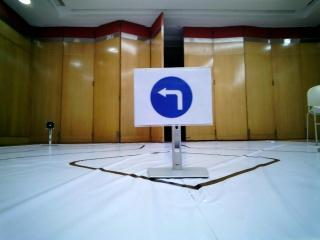left: (146, 73, 219, 126)
